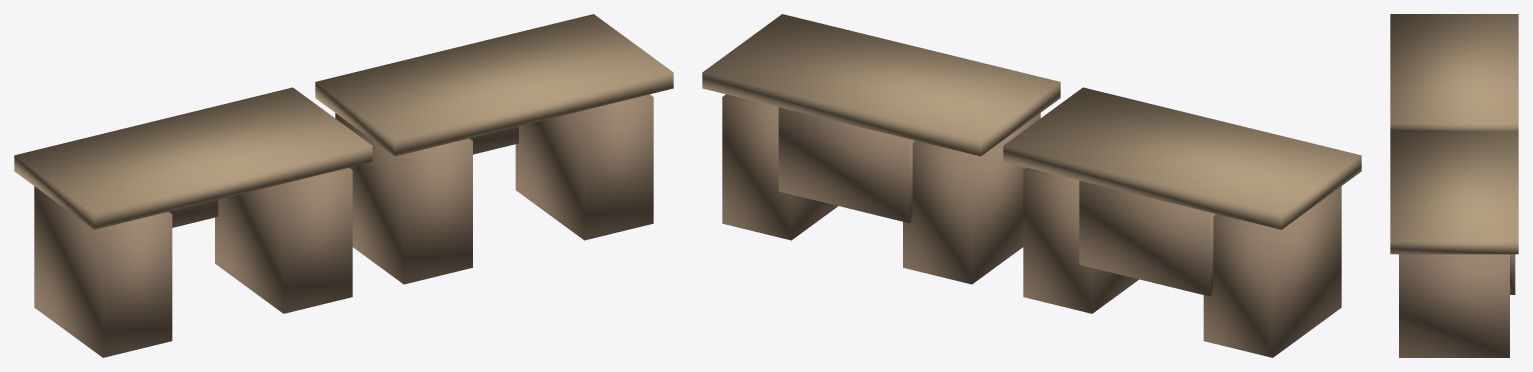
The model's file is office_desk__cluster.glb.
3 renders of one model, left to right at view 1: azimuth 30°, elevation 25°; view 2: azimuth 150°, elevation 25°; view 3: azimuth 270°, elevation 25°, orthographic. The views are drawn at different scales.
Visible parts, largest first — view 1: world; view 2: world; view 3: world.
Boxes of the visible parts, x1,y1,x2,y2 form: world: (14, 14, 673, 357); world: (702, 14, 1361, 357); world: (1390, 14, 1518, 357).
Size of the model in its own units: 3.02 by 0.755 by 0.72.
